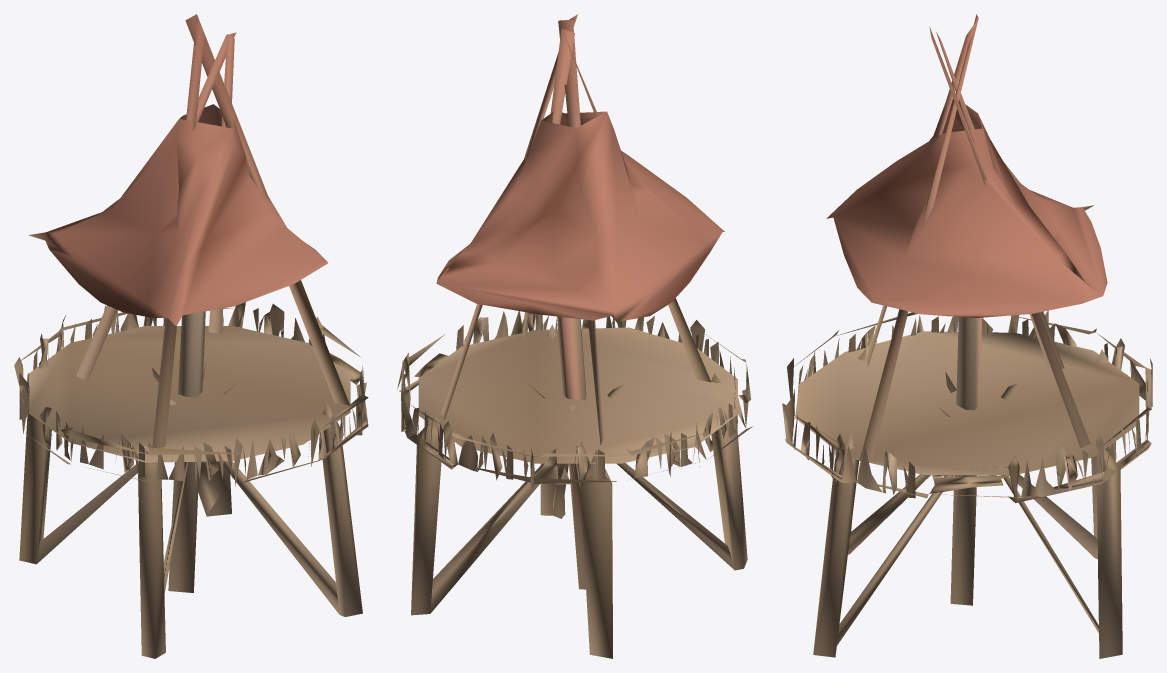
Rendered from torre_vigia_b_lejos.glb.
3 renders of one model, left to right at view 1: azimuth 30°, elevation 25°; view 2: azimuth 150°, elevation 25°; view 3: azimuth 270°, elevation 25°, orthographic. The views are drawn at different scales.
Parts seen in each view (by area): view 1: torre_vigia_b_lejos; view 2: torre_vigia_b_lejos; view 3: torre_vigia_b_lejos.
Part boxes in pixels (x1,y1,x2,y2): torre_vigia_b_lejos: [14, 14, 368, 658]; torre_vigia_b_lejos: [397, 14, 753, 658]; torre_vigia_b_lejos: [782, 14, 1152, 658].
Bounding box in the file's own units: 5.88 × 10.26 × 5.79.
